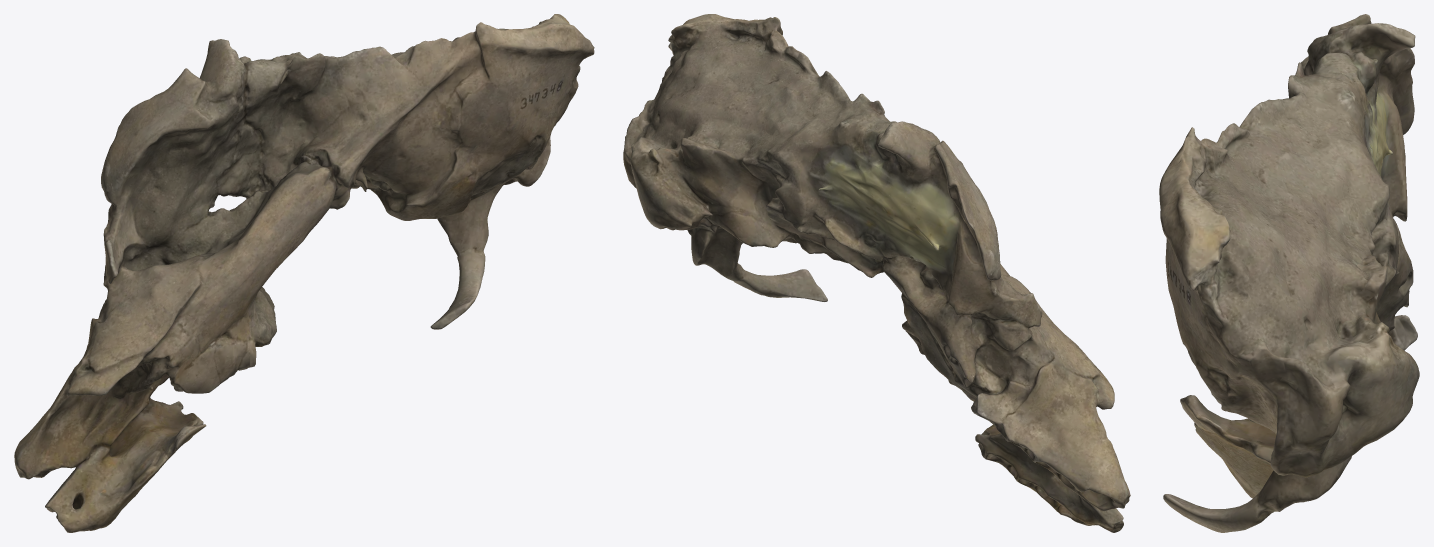
File: 18-02-leptophoca.glb
3 renders of one model, left to right at view 1: azimuth 30°, elevation 25°; view 2: azimuth 150°, elevation 25°; view 3: azimuth 270°, elevation 25°, orthographic. The views are drawn at different scales.
Visible parts, largest first — view 1: Leptophoca_lenis_True-unwrapped-webmulti; view 2: Leptophoca_lenis_True-unwrapped-webmulti; view 3: Leptophoca_lenis_True-unwrapped-webmulti.
Boxes of the visible parts, x1=… form: Leptophoca_lenis_True-unwrapped-webmulti: x1=14, y1=14, x2=594, y2=532; Leptophoca_lenis_True-unwrapped-webmulti: x1=623, y1=14, x2=1130, y2=532; Leptophoca_lenis_True-unwrapped-webmulti: x1=1159, y1=14, x2=1419, y2=532.
Size of the model in its own units: 0.1796 by 0.1394 by 0.0533.
Materials: 1 (1 with a texture image).
